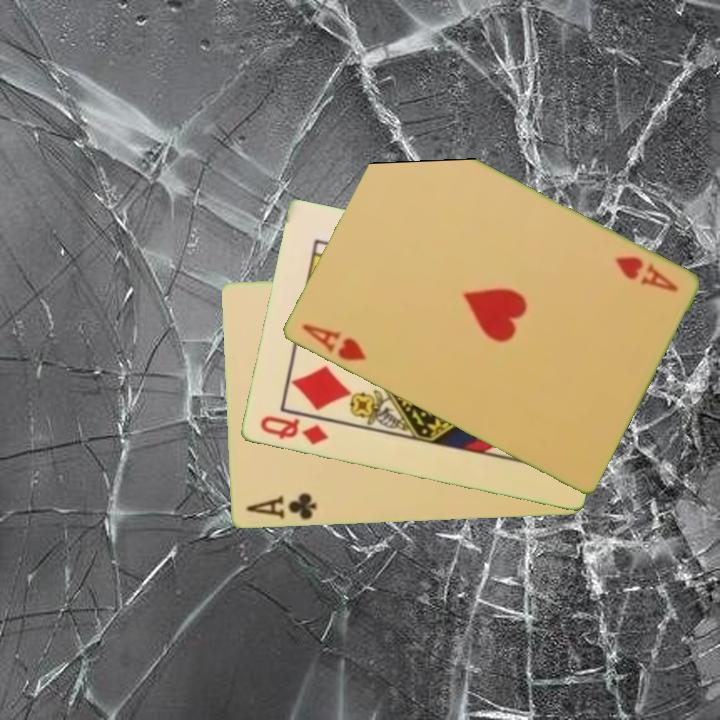Ac: (242, 489, 318, 524)
Ah: (297, 320, 369, 365), (610, 253, 681, 295)
Qd: (256, 412, 331, 449)
